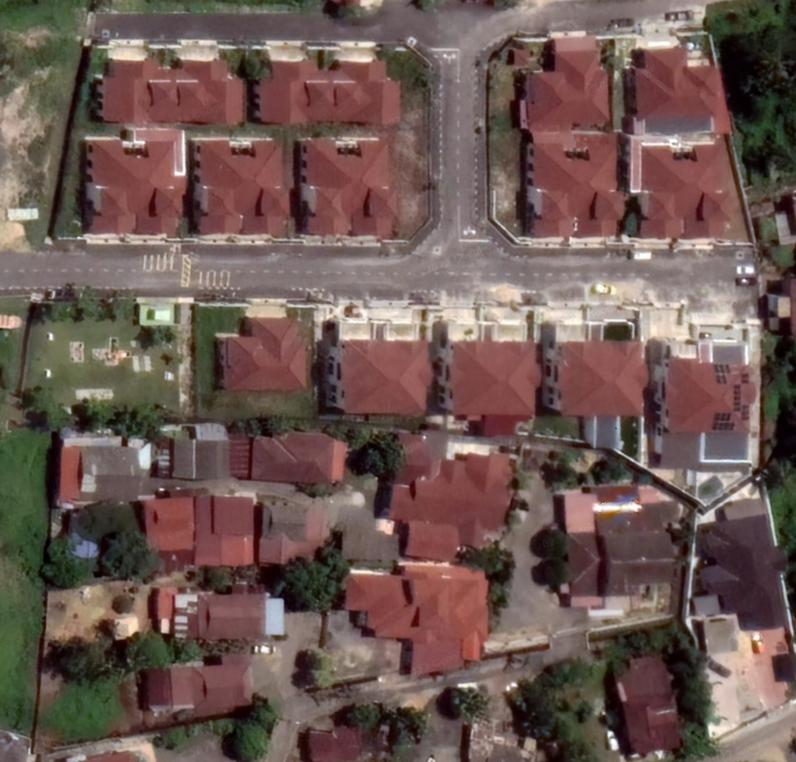building: (341, 559, 496, 685), (380, 427, 521, 563), (687, 491, 794, 636), (89, 51, 251, 131), (562, 497, 685, 600), (290, 132, 403, 242), (519, 134, 629, 245), (79, 132, 191, 241), (187, 132, 294, 241), (619, 41, 735, 139), (253, 54, 406, 128), (635, 141, 739, 246), (514, 32, 616, 134), (335, 334, 437, 421), (659, 353, 762, 438), (611, 650, 687, 761), (554, 338, 654, 421), (448, 336, 545, 420), (212, 315, 312, 396), (247, 425, 351, 491), (164, 658, 257, 720), (56, 442, 145, 506), (193, 489, 256, 570), (255, 496, 326, 566), (195, 580, 269, 644), (140, 490, 199, 555), (167, 433, 232, 484)
